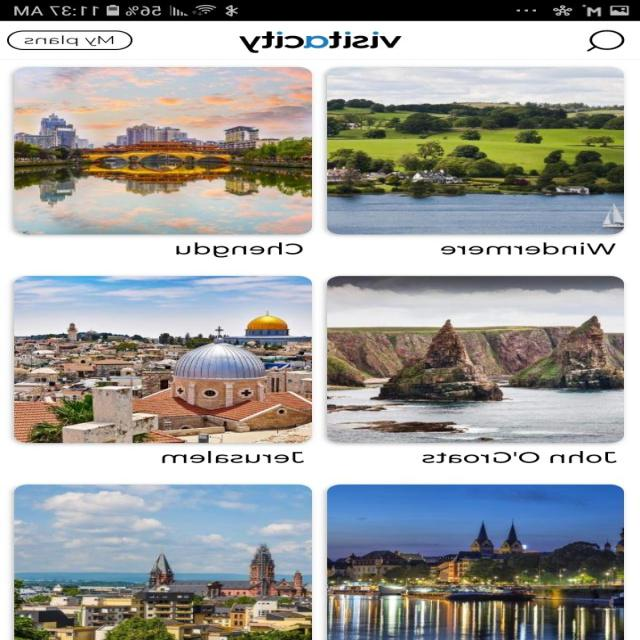Icon: (586, 29, 625, 52)
Image: (14, 66, 313, 235), (327, 66, 625, 235), (14, 276, 313, 443), (327, 276, 625, 443), (327, 483, 625, 640), (15, 484, 313, 640), (239, 30, 404, 53)
Text: (422, 450, 618, 463), (441, 242, 617, 255), (176, 242, 304, 257), (162, 450, 305, 463)
TextButton: (7, 30, 133, 50)
